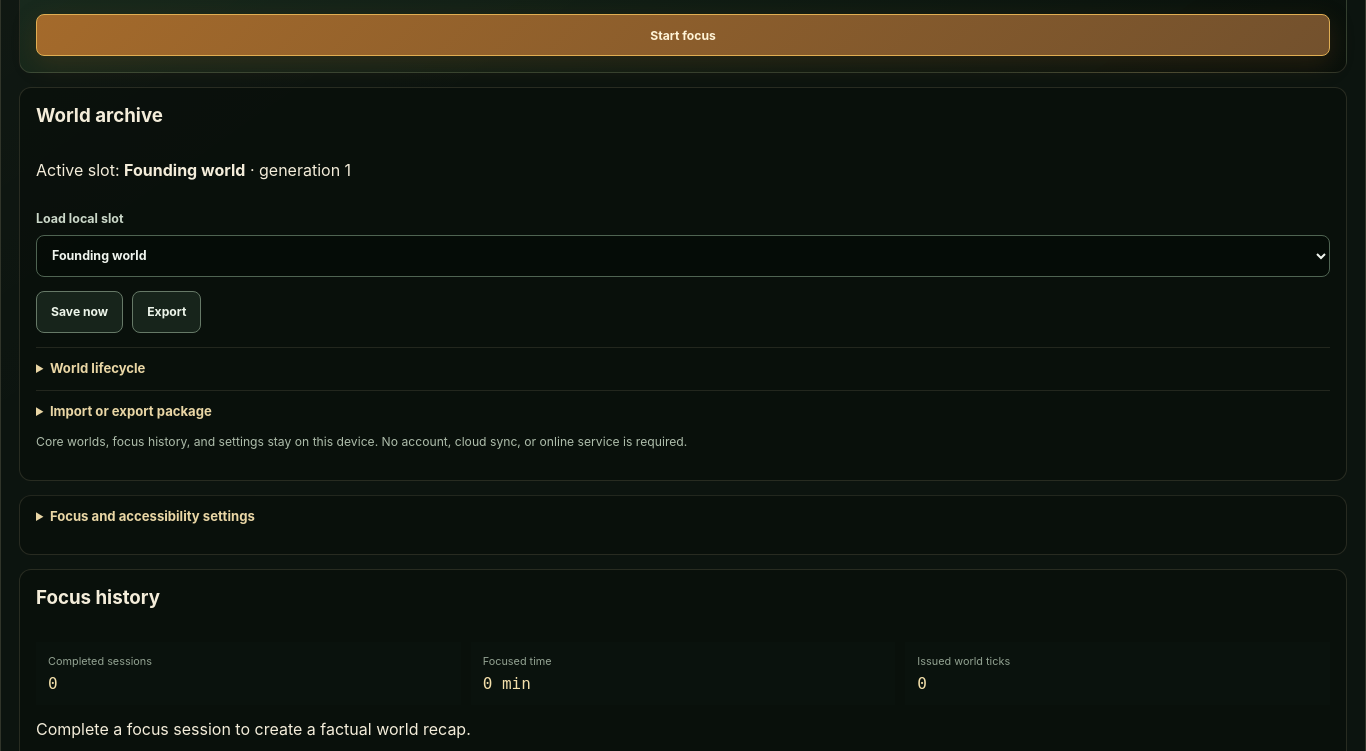
Test: FocusPersistencePanel offline progression › adopts a durable fresh world before reporting an active-slot preference failure
(page scrolled)
Check: the button "Start focus" is shown, box [36,14,1330,56]
What coordinates should you click on to do the following:
click the heading "World lifecycle"
I would click on:
 (98, 368)
Its box is [50,360,145,376].
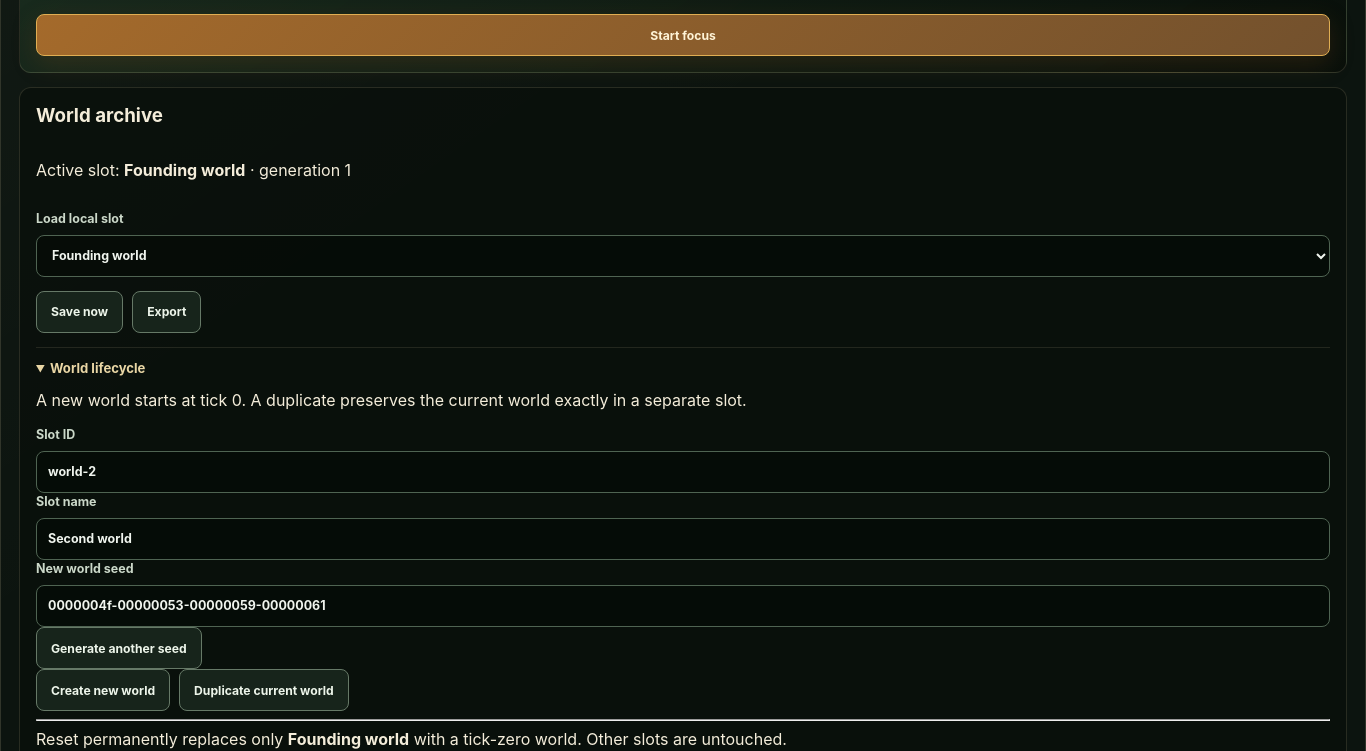
What coordinates should you click on to do the following:
click the button "Create new world"
I would click on:
 (103, 690)
Its box is [36,669,170,711].
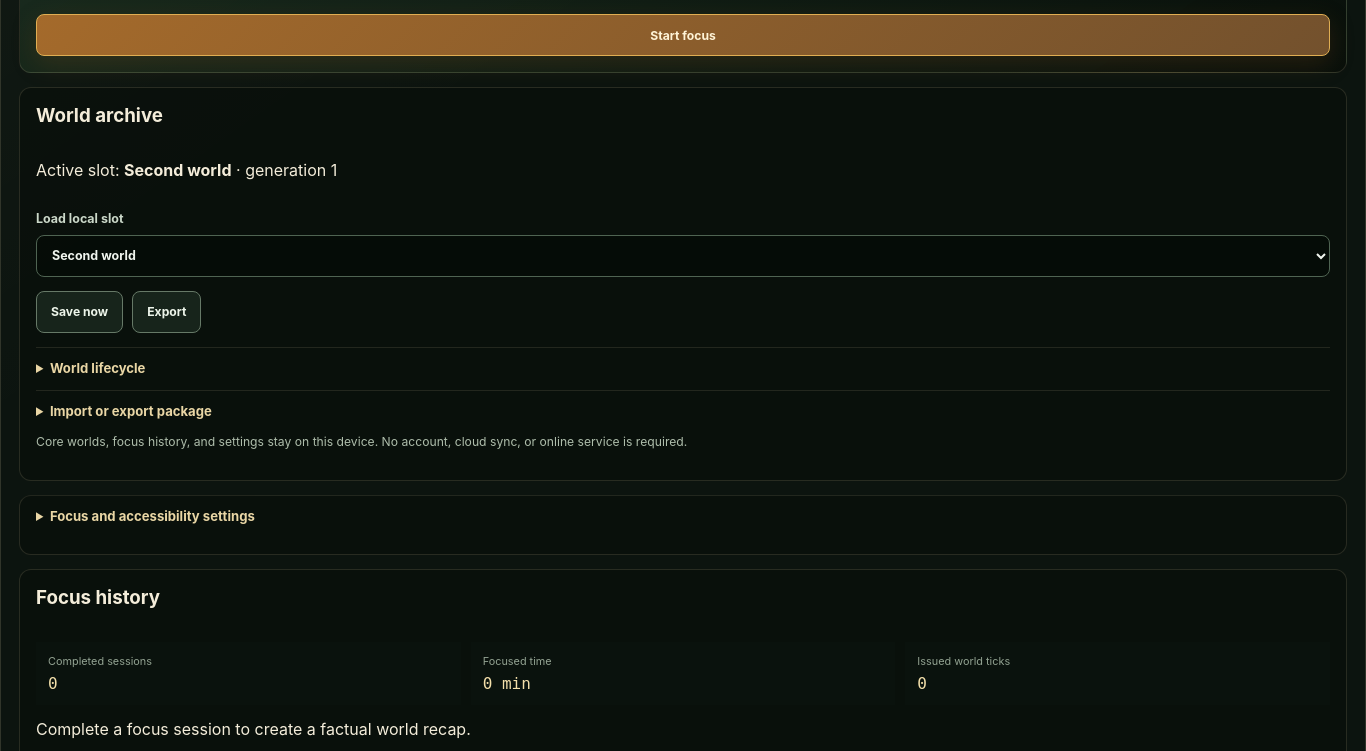
Check: the dropdown labelled "Load local slot" shows "Second world", box [36,235,1330,277]
